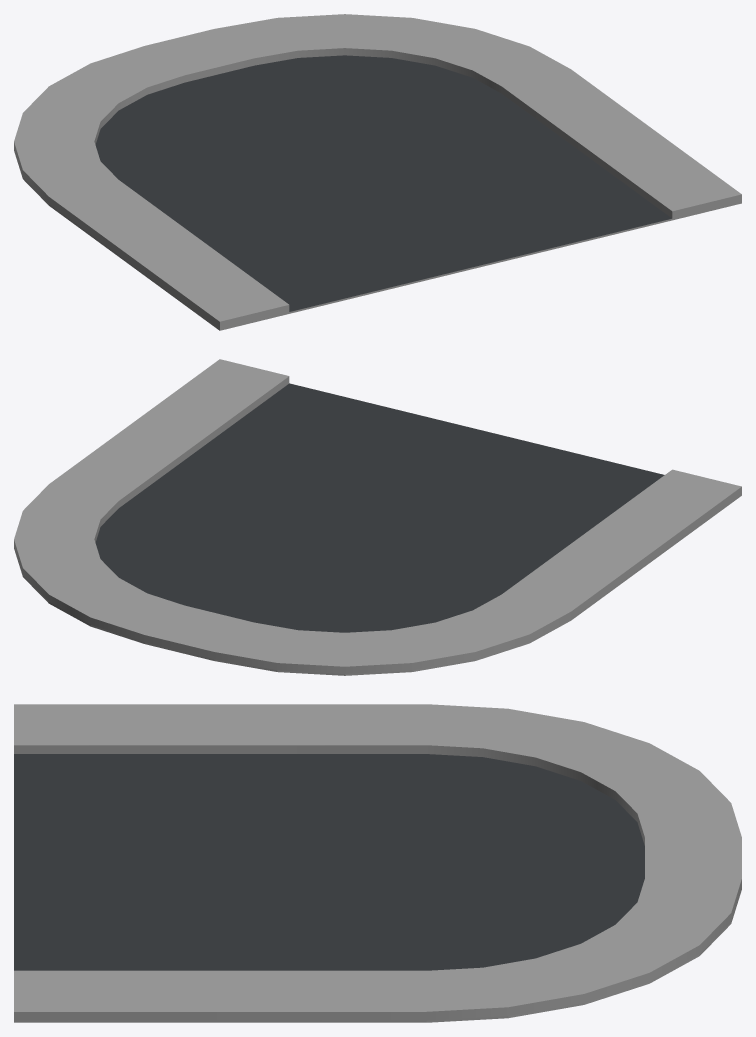
Rendered from Road_Straight_End.fbx.
The picture shows the model from 3 angles, top to bottom: view 1: azimuth 30°, elevation 25°; view 2: azimuth 150°, elevation 25°; view 3: azimuth 270°, elevation 25°; orthographic projection. The views are drawn at different scales.
Visible parts, largest first — view 1: Road_Straight_End; view 2: Road_Straight_End; view 3: Road_Straight_End.
Boxes of the visible parts, <box> form: Road_Straight_End: <box>14,14,741,330</box>; Road_Straight_End: <box>14,359,741,675</box>; Road_Straight_End: <box>14,704,741,1022</box>.
Size of the model in its own units: 600 by 10 by 600.
